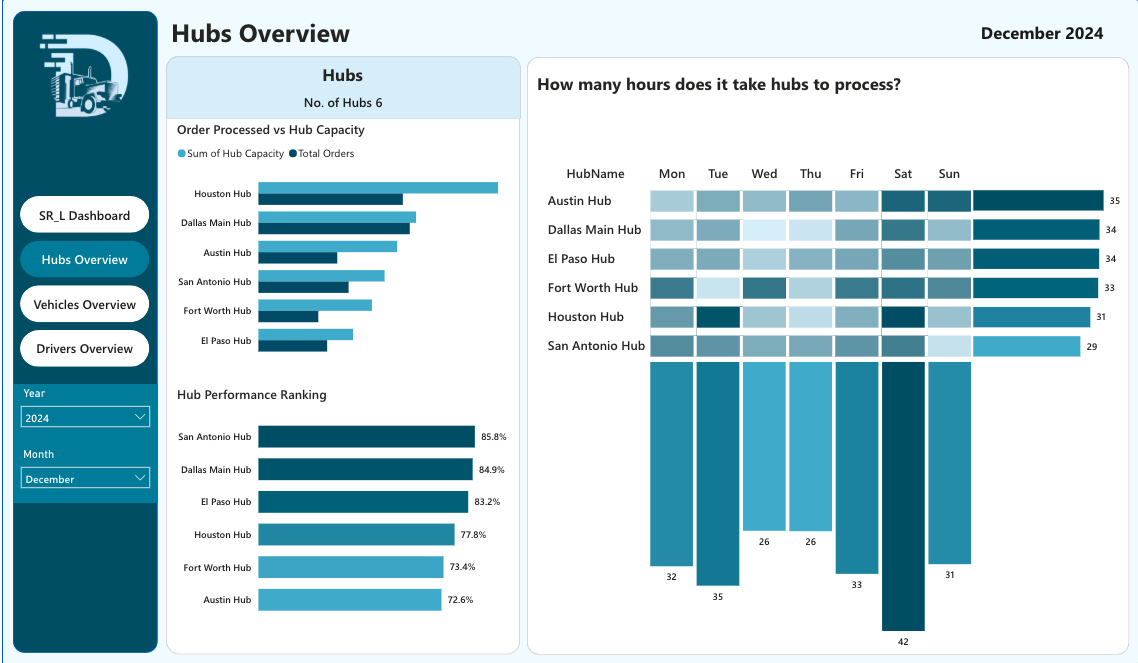

This screenshot's page, from the dashboard's own definition file:
{"tool":"powerbi","page":{"name":"Hubs Overview","canvas":[1450,850],"ordinal":1},"visuals":[{"type":"shape","box":[14.1,15.4,184.6,819.2],"z":0,"group":"g2"},{"type":"textbox","box":[210.3,15.4,503.8,57.7],"z":0},{"type":"pivotTable","fields":{"Columns":["Date Table.Day"],"Rows":["Hubs.HubName"],"Values":["Orders.Avg Delivery Time (Hrs)"]},"box":[686.2,205.7,566.7,270.7],"z":0,"group":"g1"},{"type":"shape","box":[209.9,72.3,452,764],"z":1000},{"type":"columnChart","fields":{"Category":["Date Table.Day"],"Y":["Orders.Avg Delivery Time (Hrs)"]},"box":[818.7,449,426,389.1],"z":1000,"group":"g1"},{"type":"shape","box":[208.8,72.3,453.1,80.3],"z":2000},{"type":"barChart","fields":{"Category":["Orders.Hub Name"],"Y":["Orders.Avg Delivery Time (Hrs)"]},"box":[1231.6,231.8,206.5,231.5],"z":2000,"group":"g1"},{"type":"textbox","box":[402.7,76,65.4,43.6],"z":3000},{"type":"slicer","fields":{"Values":["Date Table.Year"]},"box":[13.7,491.1,185,78.8],"z":3000,"group":"g2"},{"type":"cardVisual","title":"No of Hubs","fields":{"Data":["Hubs.No of Hubs"]},"box":[360.2,109,151.4,43.6],"z":4000},{"type":"slicer","fields":{"Values":["Date Table.Month"]},"box":[13.7,569.9,185,74.2],"z":4000,"group":"g2"},{"type":"clusteredBarChart","title":"Order Processed vs Hub Capacity","fields":{"Category":["Hubs.HubName"],"Y":["Sum(Hubs.Hub Capacity)","Orders.Total Orders"]},"box":[218,156,436,315.5],"z":5000},{"type":"barChart","title":"Hub Performance Ranking","fields":{"Category":["Hubs.HubName"],"Y":["Orders.On Time Delivery Rate"]},"box":[218,494.4,435.9,309.7],"z":6000},{"type":"shape","box":[669.9,73.4,768.6,762.9],"z":7000},{"type":"cardVisual","title":"No of Hubs","fields":{"Data":["Orders.Year Month Title"]},"box":[1225.7,15.3,206.8,52.5],"z":8000},{"type":"group","id":"g1","title":"Group 1","box":[686.2,205.7,751.8,632.5],"z":9000},{"type":"textbox","box":[677.9,88,751.9,44.2],"z":10000},{"type":"group","id":"g2","title":"Group 1","box":[13.7,15.4,185,819.2],"z":11000},{"type":"image","box":[32,33.1,148.4,138.1],"z":23000,"group":"g2"},{"type":"pageNavigator","box":[22.8,251.2,165.6,220.4],"z":25000,"group":"g2"}]}

Visuals, with their boxes in screenshot pixels (x1, y1, x2, y2), scaled from the page's 1450x850 canvas onto the 1138x663 screenshot:
shape: select_region(11, 12, 156, 651)
textbox: select_region(165, 12, 560, 57)
pivotTable - Date Table.Day x Hubs.HubName: select_region(539, 160, 983, 372)
shape: select_region(165, 56, 519, 652)
columnChart - Date Table.Day x Orders.Avg Delivery Time (Hrs): select_region(643, 350, 977, 654)
shape: select_region(164, 56, 519, 119)
barChart - Orders.Hub Name x Orders.Avg Delivery Time (Hrs): select_region(967, 181, 1129, 361)
textbox: select_region(316, 59, 367, 93)
slicer - Date Table.Year: select_region(11, 383, 156, 445)
"No of Hubs" cardVisual: select_region(283, 85, 402, 119)
slicer - Date Table.Month: select_region(11, 445, 156, 502)
"Order Processed vs Hub Capacity" clusteredBarChart: select_region(171, 122, 513, 368)
"Hub Performance Ranking" barChart: select_region(171, 386, 513, 627)
shape: select_region(526, 57, 1129, 652)
"No of Hubs" cardVisual: select_region(962, 12, 1124, 53)
"Group 1" group: select_region(539, 160, 1129, 654)
textbox: select_region(532, 69, 1122, 103)
"Group 1" group: select_region(11, 12, 156, 651)
image: select_region(25, 26, 142, 134)
pageNavigator: select_region(18, 196, 148, 368)
